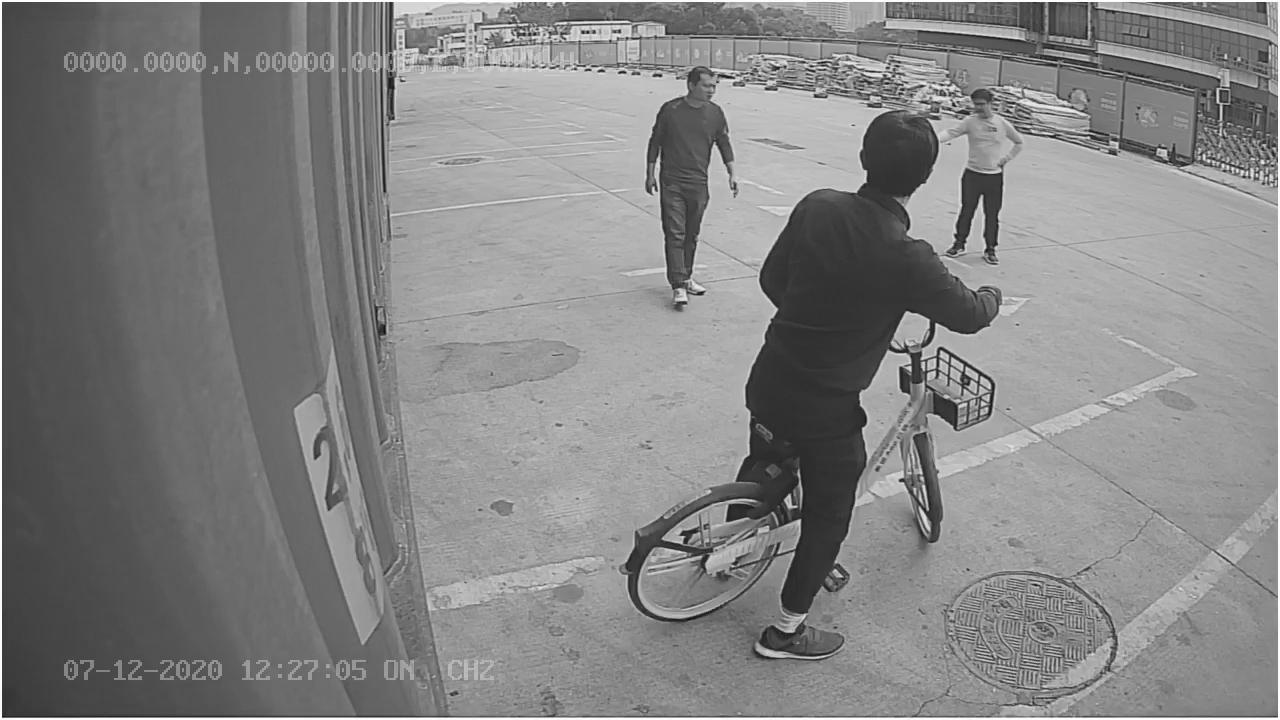person: (638, 65, 746, 315)
